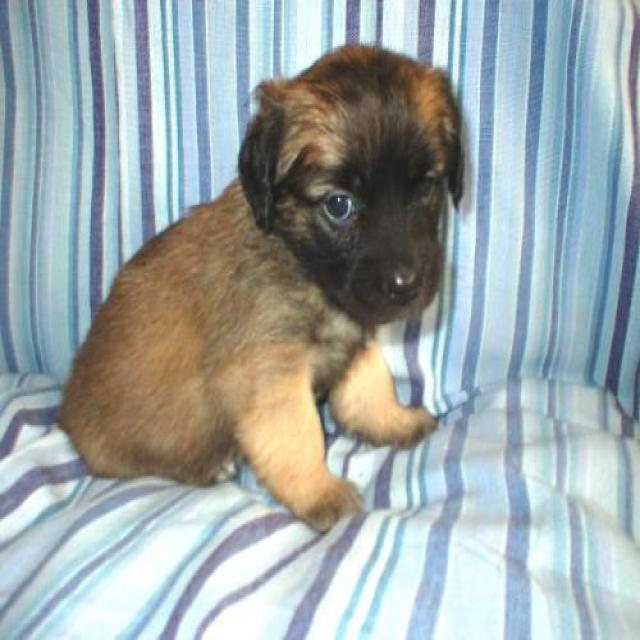Dogs: (56, 40, 465, 532)
